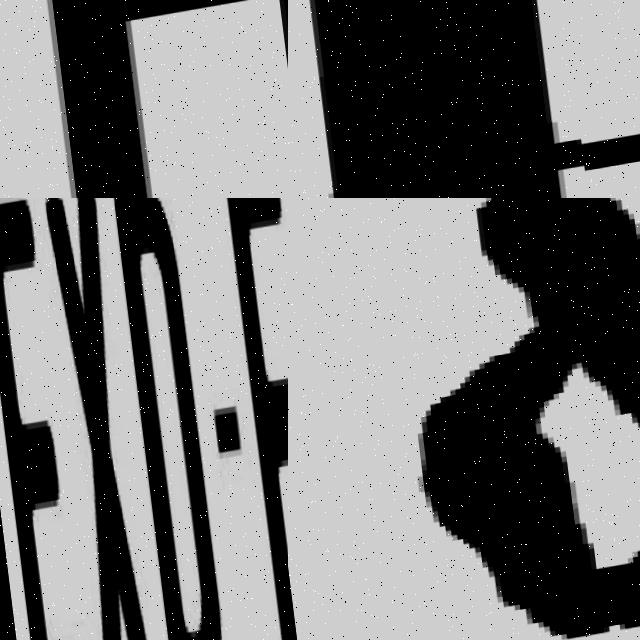8: (369, 198, 640, 640)
D: (106, 198, 233, 640)
E: (0, 198, 100, 640), (219, 198, 288, 640)
N: (30, 0, 288, 198)
X: (44, 198, 166, 640)
